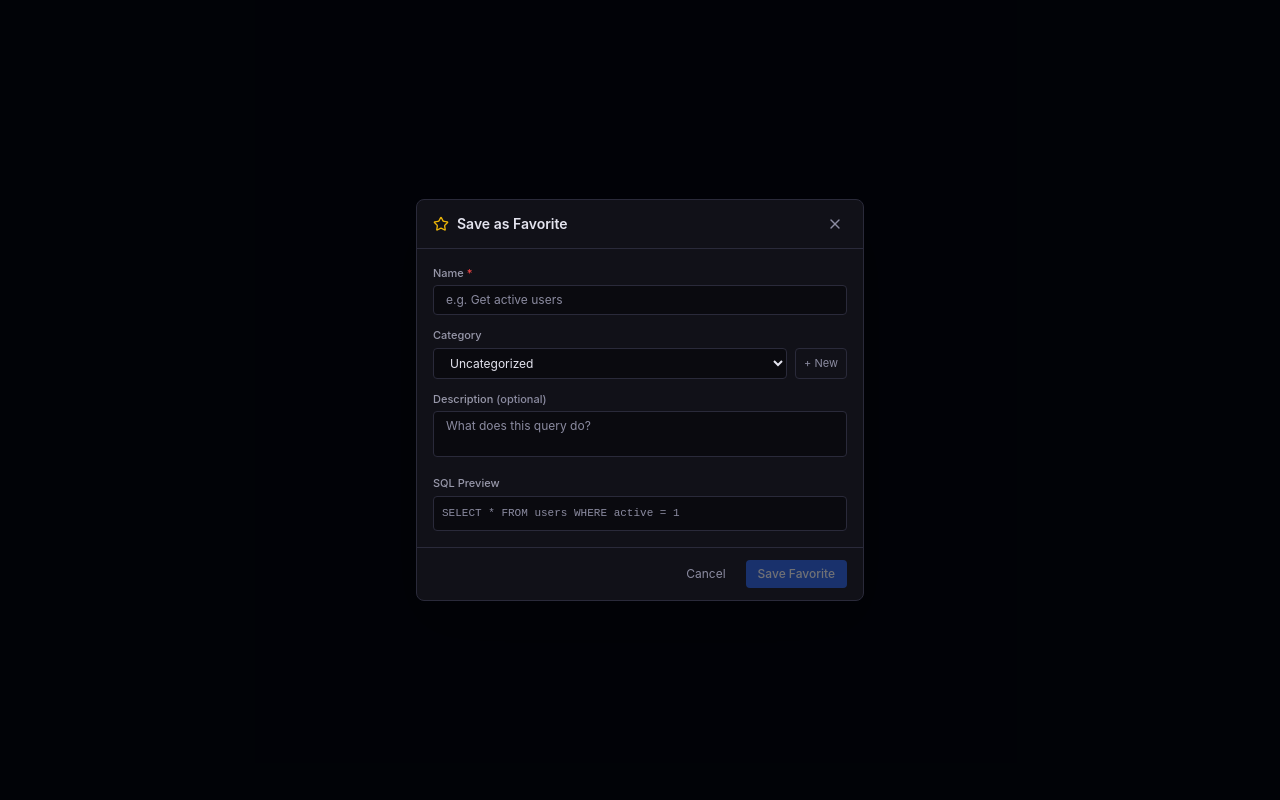
Test case: SaveFavoriteDialog › renders new category input when + New clicked
Click the button "+ New" at (821, 363), box [795,348,847,379]
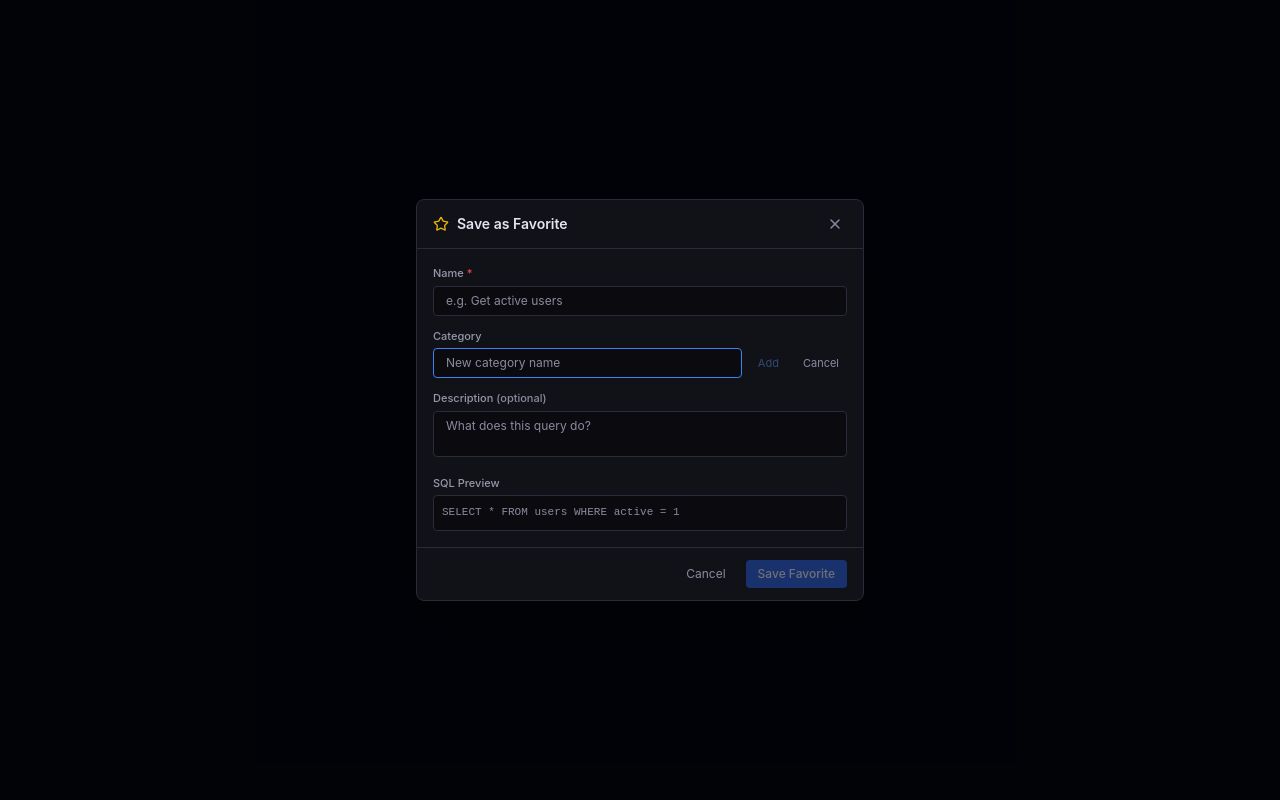
Check: the field with placeholder "New category name" is shown, box [433,348,742,378]
